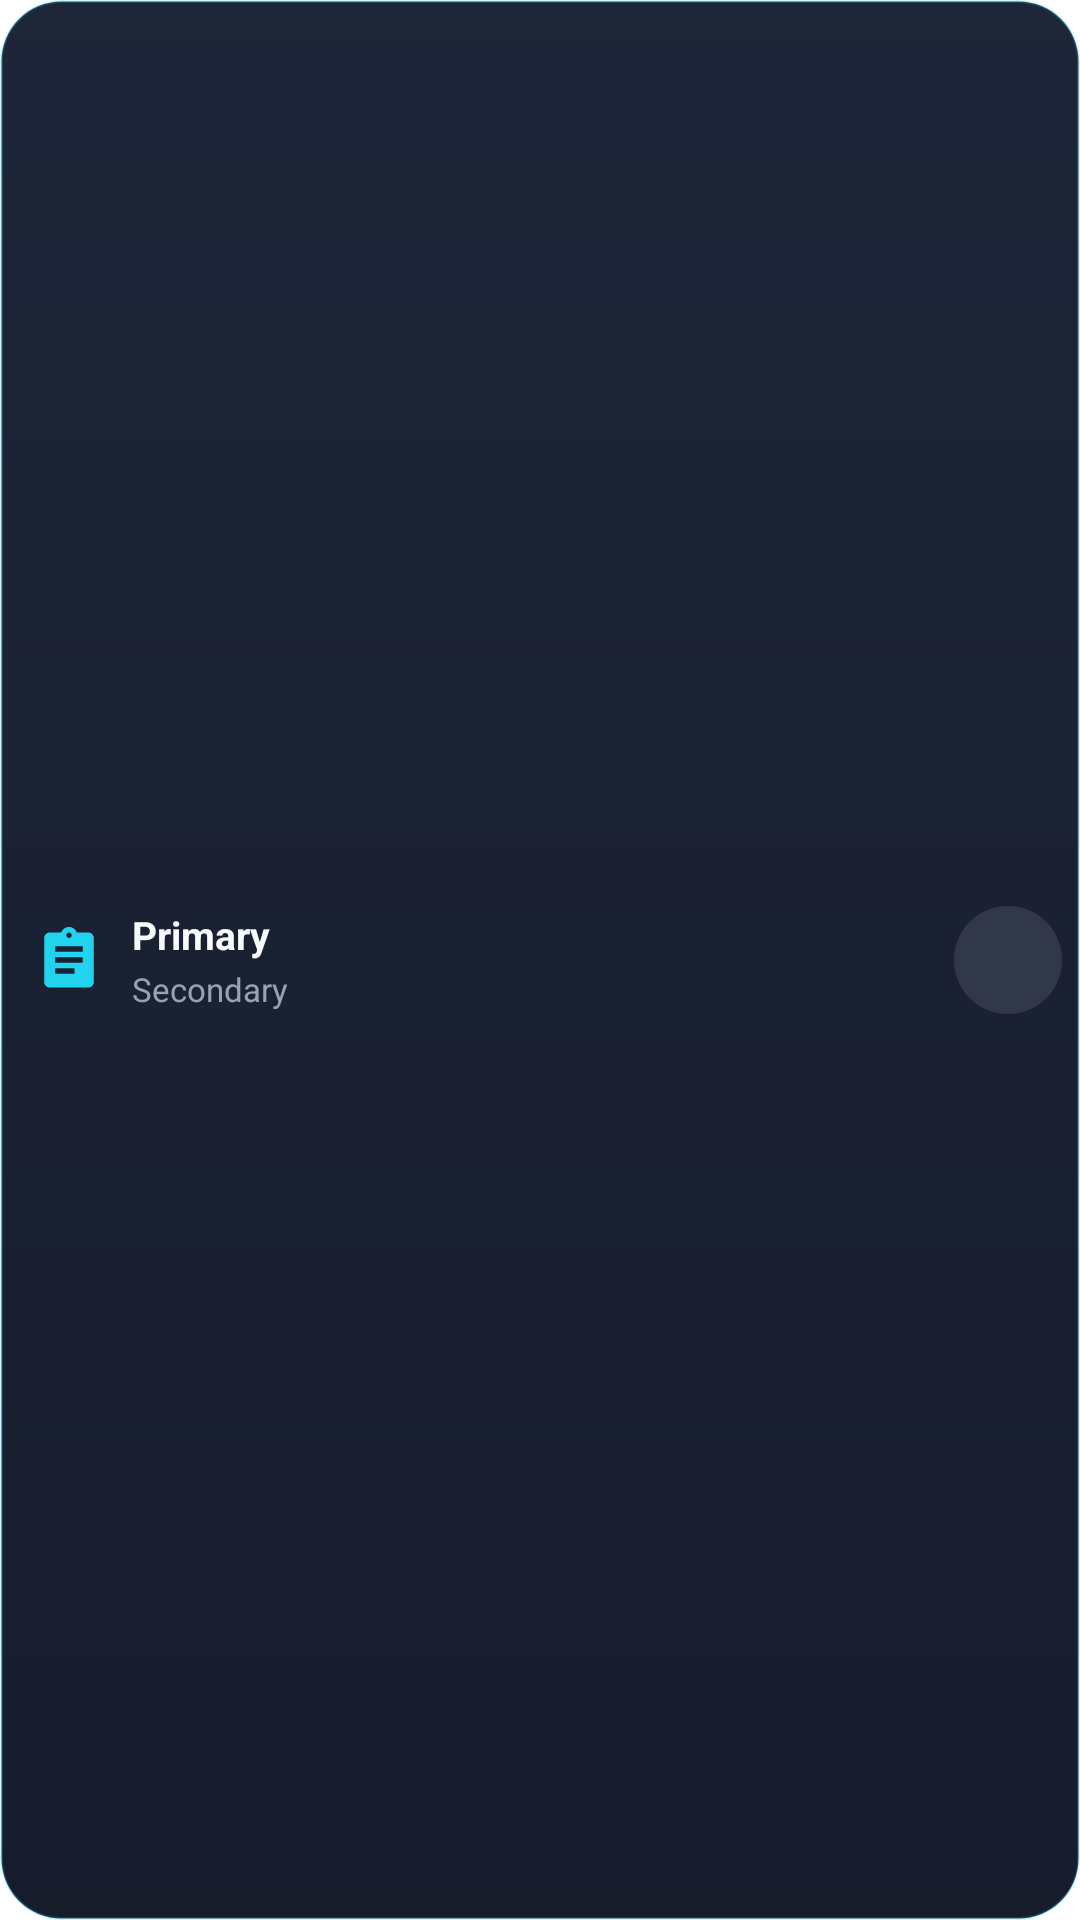

Icons on this 1080px x 1920px Android screen, each with the point to tap as (x=x, y=y):
clipboard: (x=69, y=957)
